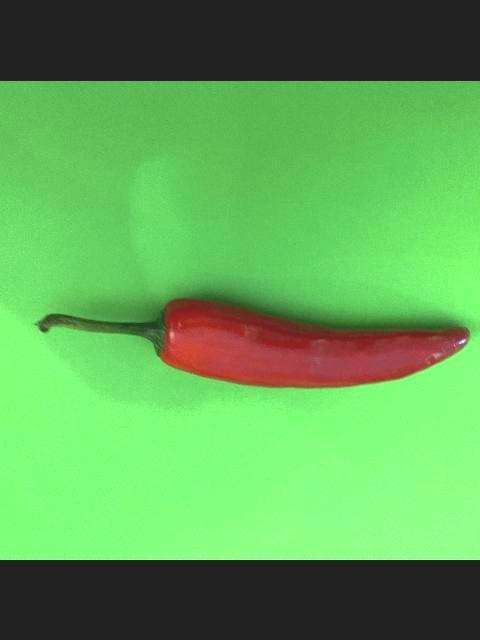chilli: (35, 292, 471, 392)
